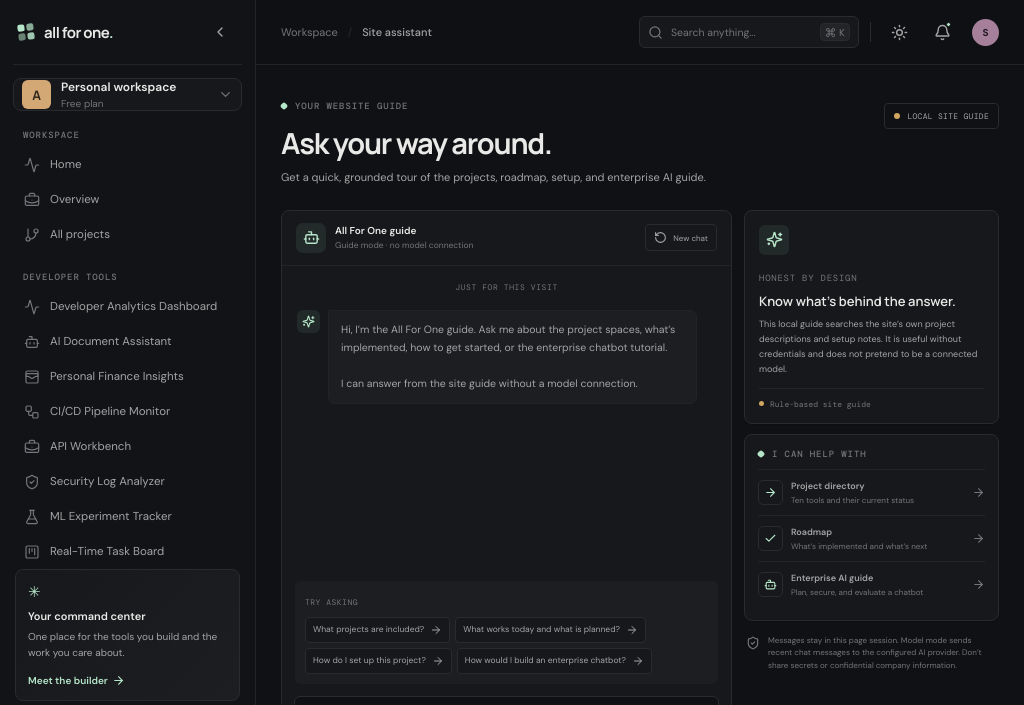
Test: All For One Stage 1 shell › answers a site question in labeled local guide mode
The image size is (1024, 705).
expect the text "LOCAL SITE GUIDE" is shown: met, box [884,103,999,129]
What coordinates should you click on to do the following:
click the button "What projects are included?"
I would click on:
 (378, 630)
Its box is [305,617,450,643].
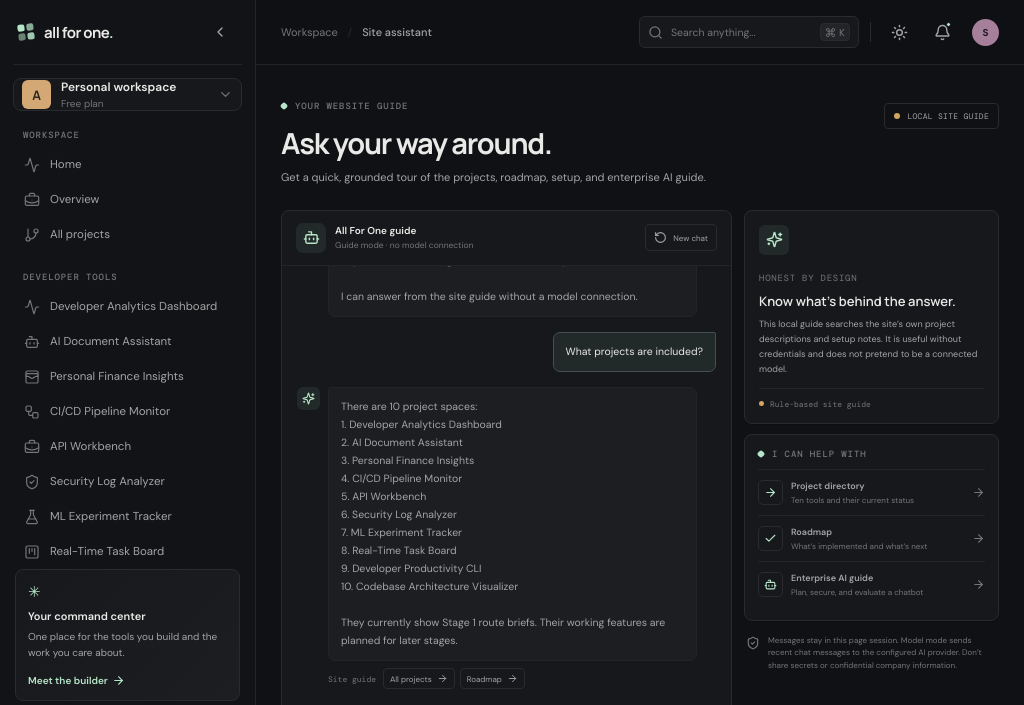
expect the text "Stage 1 route briefs" is shown: met, box [341,400,665,647]
